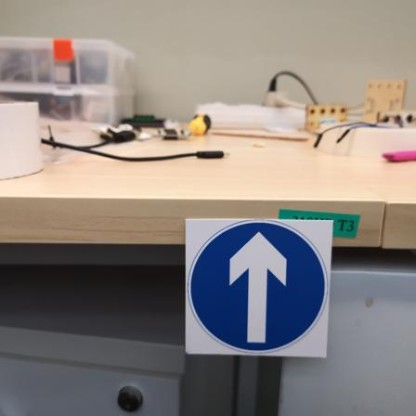forward: (183, 214, 331, 359)
